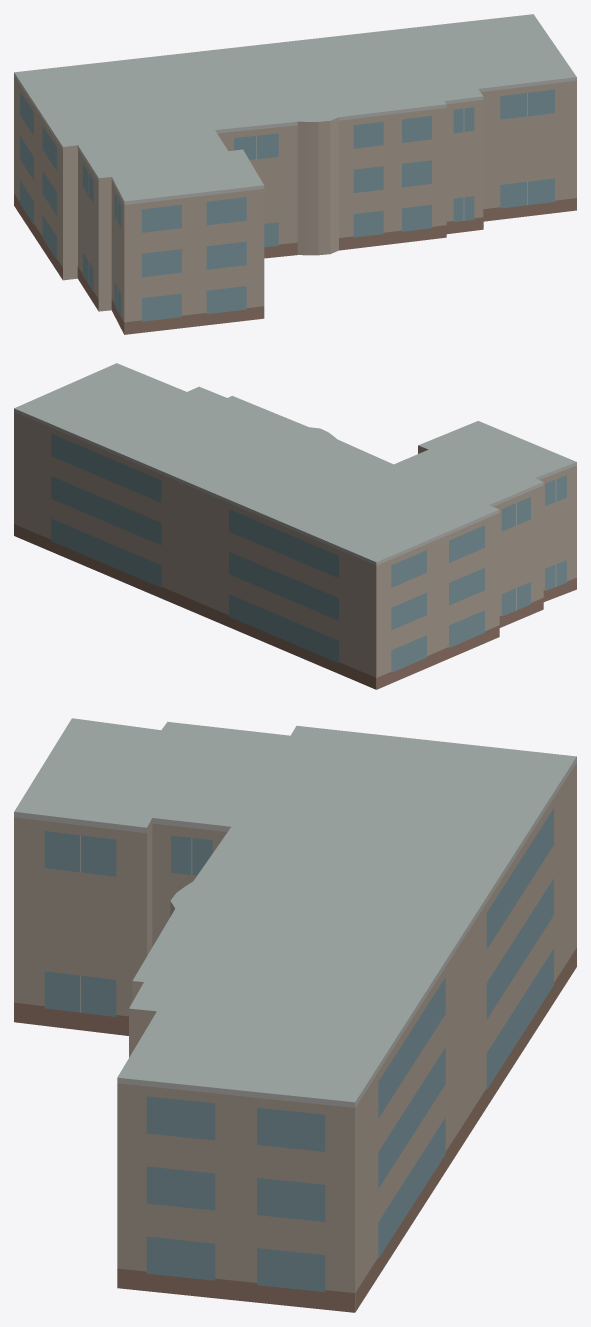
Rendered from survey-upis-32879245.glb.
The picture shows the model from 3 angles, top to bottom: view 1: azimuth 30°, elevation 25°; view 2: azimuth 150°, elevation 25°; view 3: azimuth 270°, elevation 25°; orthographic projection. The views are drawn at different scales.
Parts seen in each view (by area): view 1: survey-upis-32879245.tmp; view 2: survey-upis-32879245.tmp; view 3: survey-upis-32879245.tmp.
Part boxes in pixels (box(x1,y1,x2,y2)): survey-upis-32879245.tmp: box(14, 14, 576, 334); survey-upis-32879245.tmp: box(14, 363, 576, 689); survey-upis-32879245.tmp: box(14, 718, 576, 1312).
Bounding box in the file's own units: 35.83 × 9.15 × 22.19.
